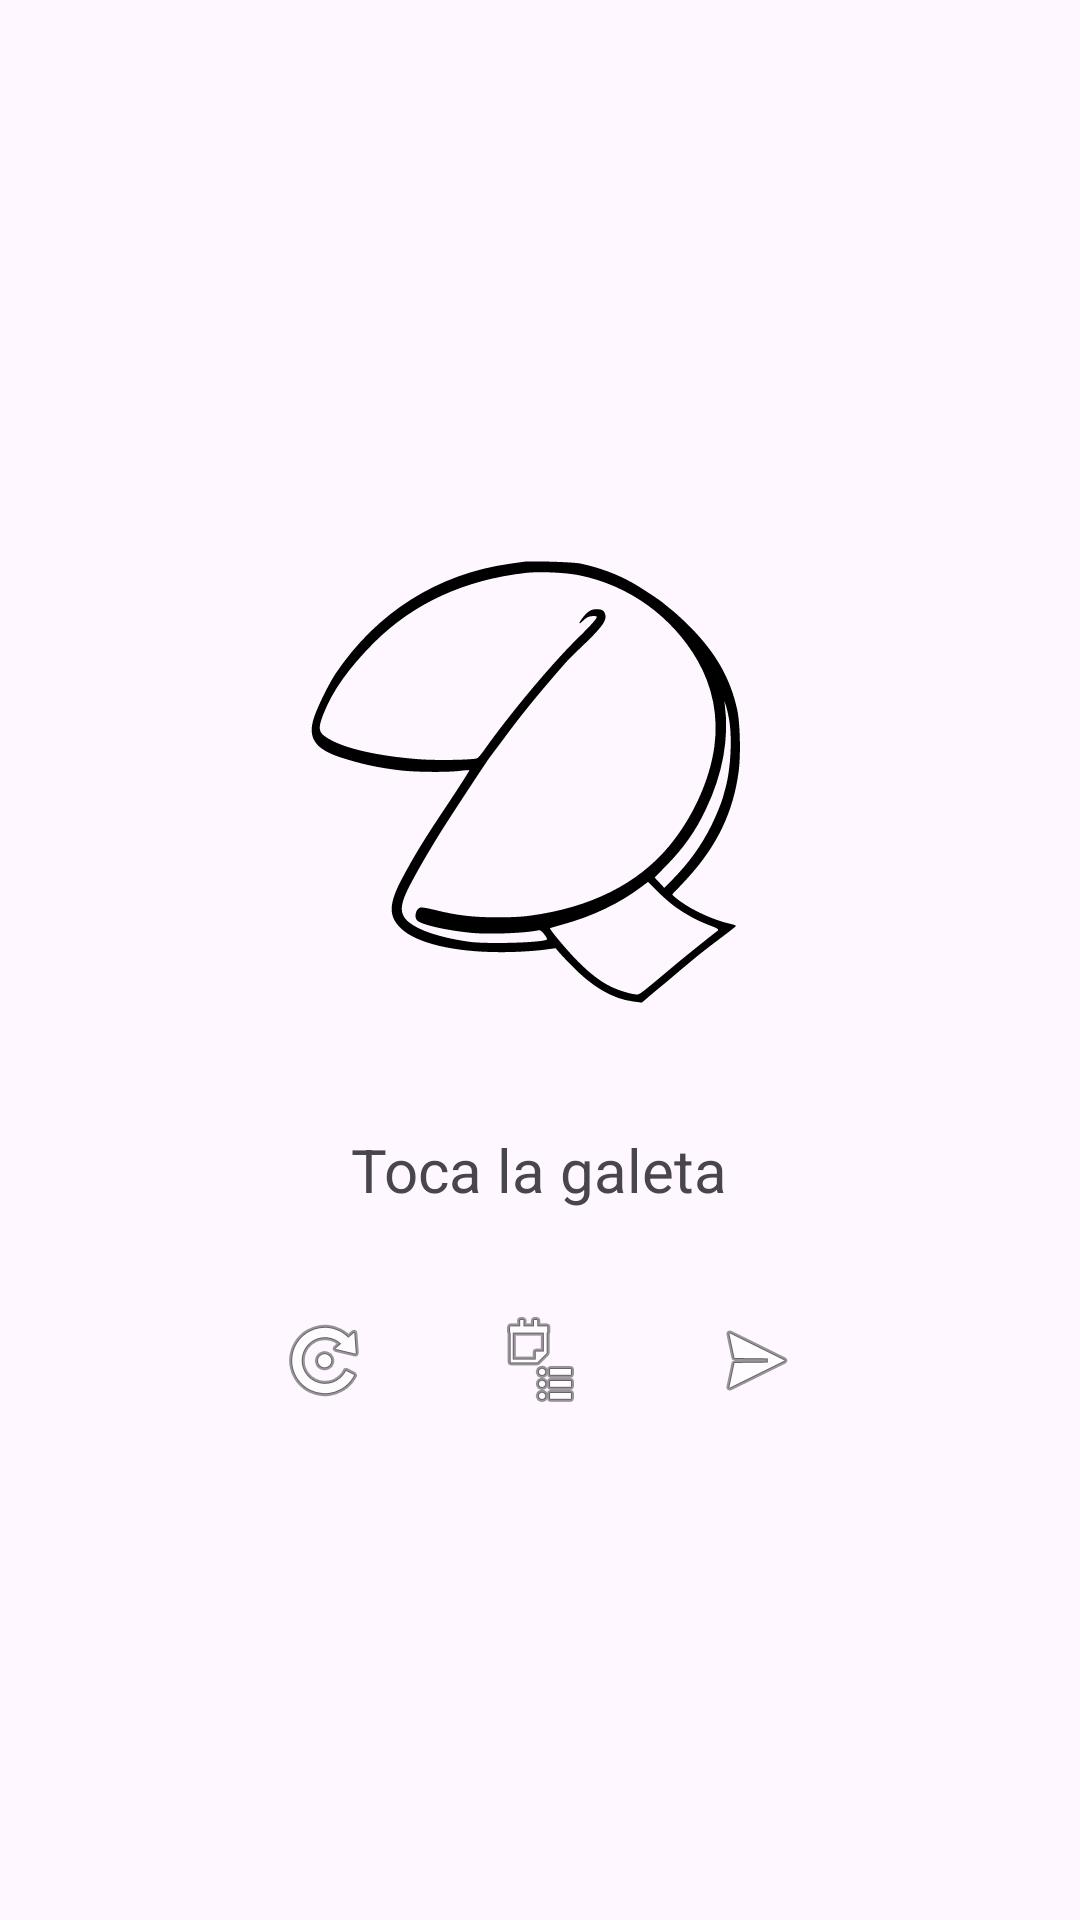

Screen size 1080w x 1920h. Icon name, then its box in pixels as (x1=x1, y1=y1, x2=x2, y2=y2):
Reload: (x1=289, y1=1325, x2=359, y2=1396)
Share: (x1=726, y1=1330, x2=788, y2=1391)
